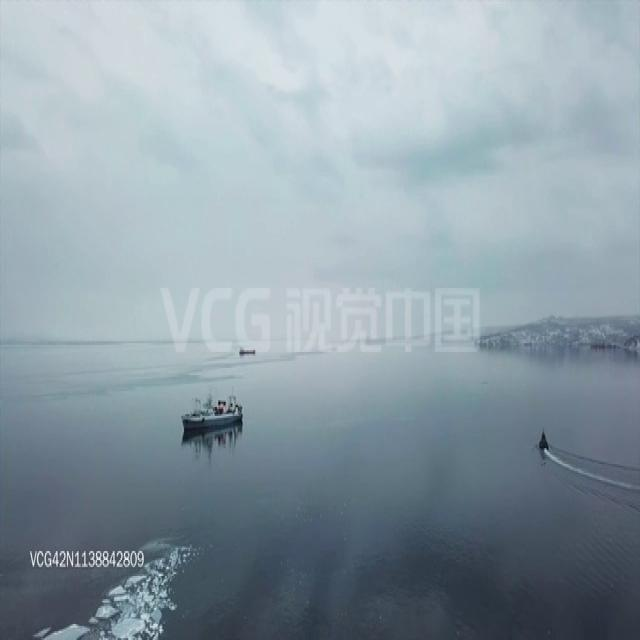fishing boat: (180, 388, 242, 436), (538, 426, 550, 454), (239, 342, 256, 357)
